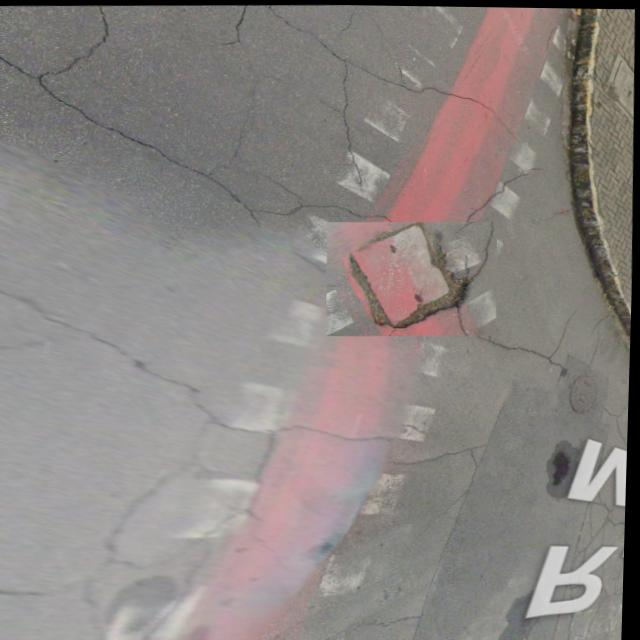Buraco: (324, 217, 499, 336)
